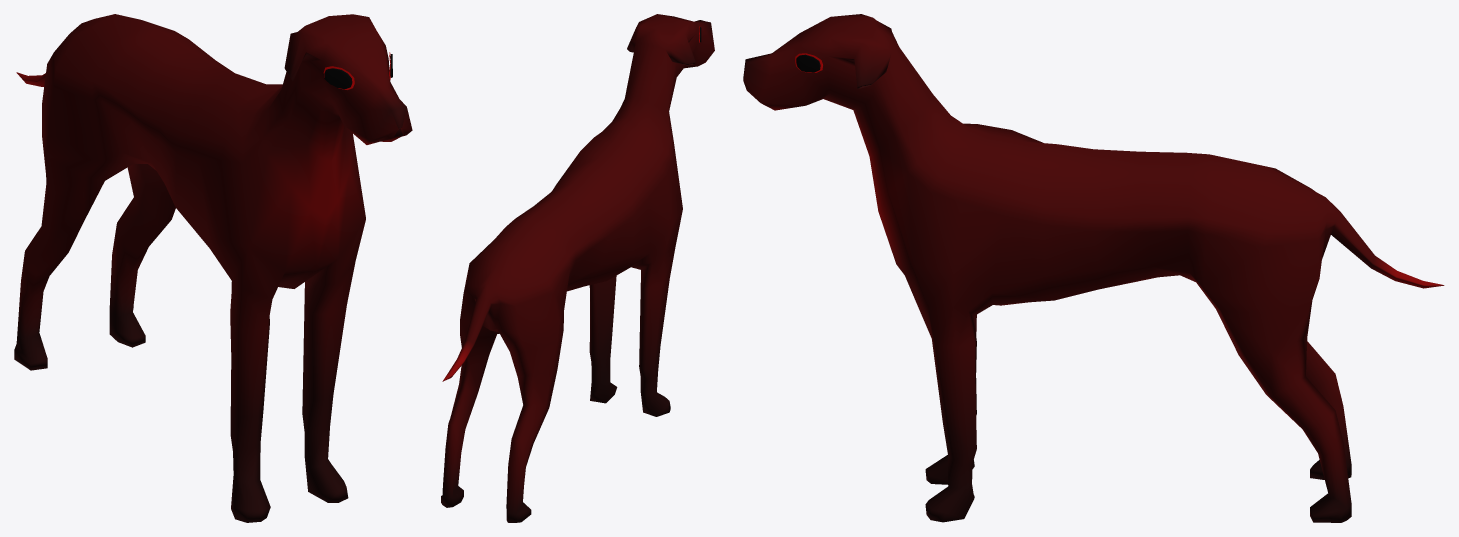
File: Animals_Dobermann.fbx
3 renders of one model, left to right at view 1: azimuth 30°, elevation 25°; view 2: azimuth 150°, elevation 25°; view 3: azimuth 270°, elevation 25°, orthographic. The views are drawn at different scales.
Parts seen in each view (by area): view 1: base; view 2: base; view 3: base.
Boxes of the visible parts, box(x1,y1,x2,y2) form: base: box(14, 14, 412, 522); base: box(441, 14, 714, 522); base: box(743, 14, 1444, 522).
Size of the model in its own units: 29.27 by 104 by 140.
